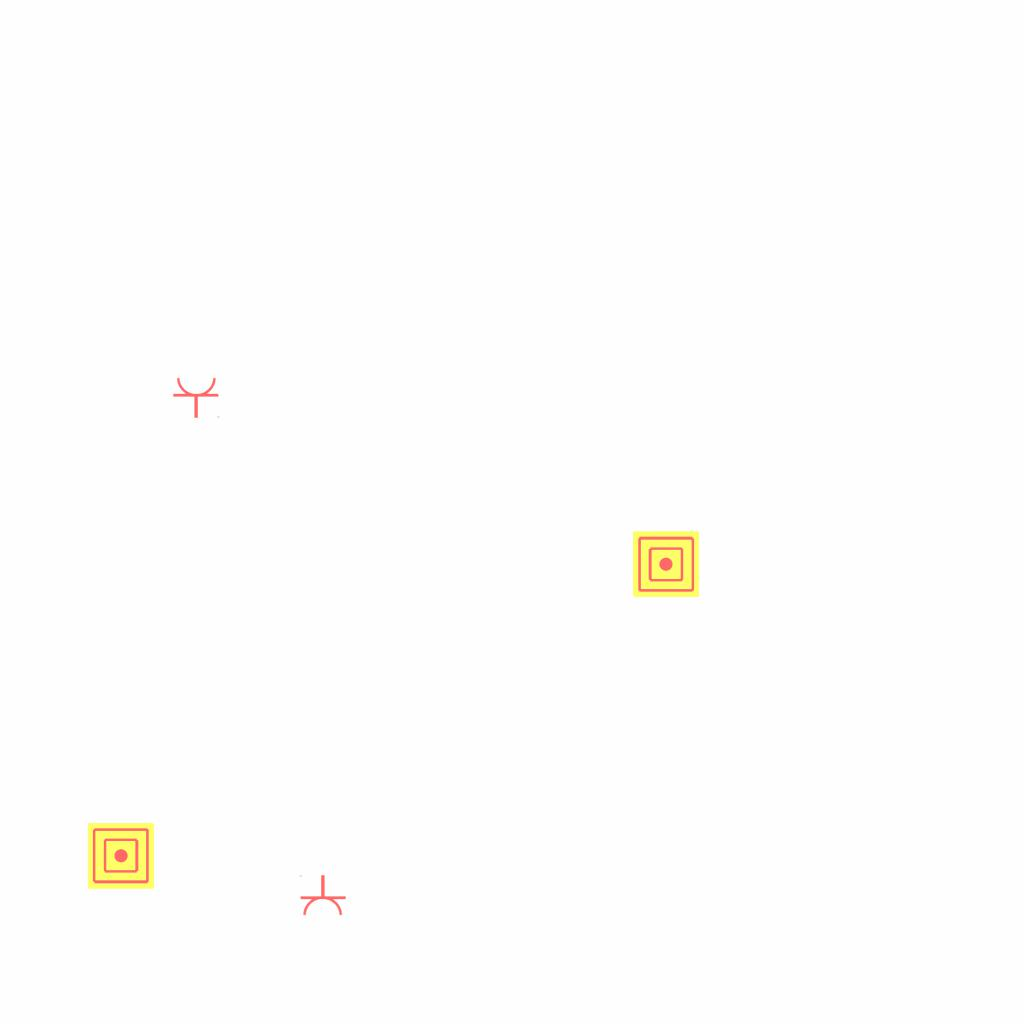NAM-Nichtautomatischer_Melder: (88, 823, 154, 889), (633, 531, 699, 597)
Schukosteckdose_einfach: (297, 874, 347, 917), (172, 376, 222, 419)
